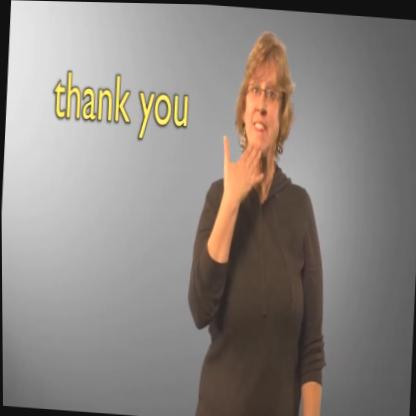ThankYou: (220, 30, 304, 215)
